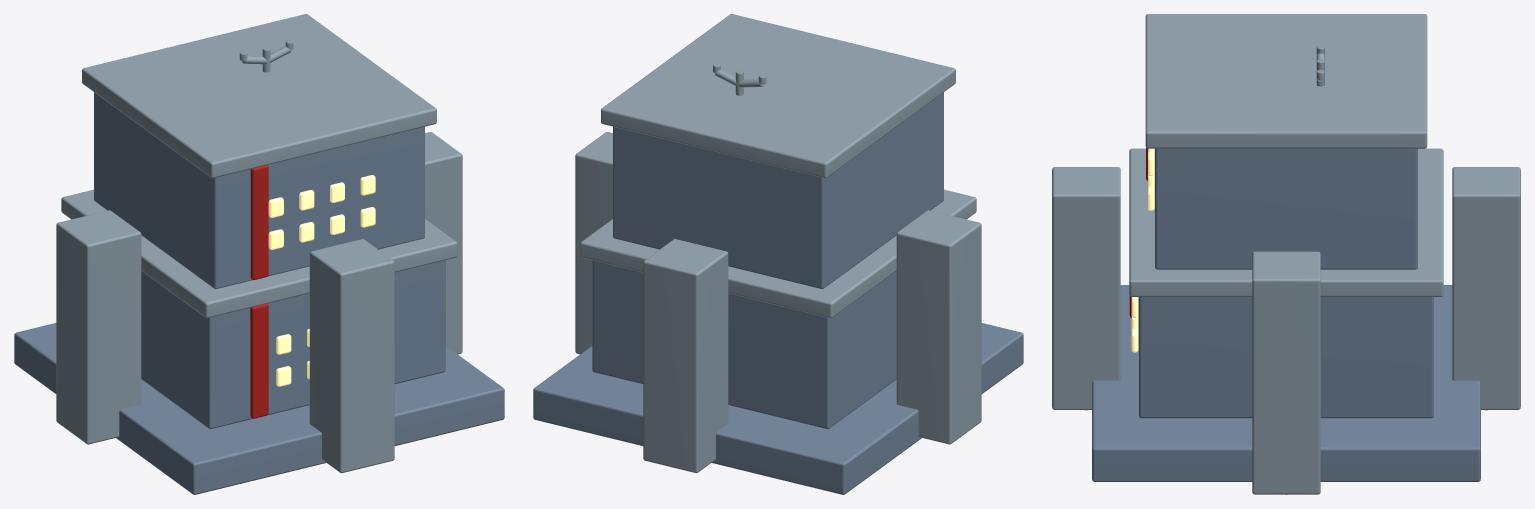
3 views of the same model, side by side, from view 1: azimuth 30°, elevation 25°; view 2: azimuth 150°, elevation 25°; view 3: azimuth 270°, elevation 25° (orthographic). The views are drawn at different scales.
Parts seen in each view (by area): view 1: Block roof ledge.001, Modular block storey.001, Modular block storey, Foundation slab, Block buttress.003, Block buttress.002, Block roof ledge, Block buttress, Vertical block colour strip, Vertical block colour strip.001; view 2: Modular block storey.001, Block roof ledge.001, Modular block storey, Foundation slab, Block buttress.001, Block buttress.002, Block roof ledge, Block buttress; view 3: Block roof ledge.001, Modular block storey.001, Modular block storey, Foundation slab, Block buttress, Block buttress.001, Block buttress.003, Block roof ledge.
Boxes of the visible parts, left/top/right/bottom form: Block roof ledge.001: left=82, top=14, right=436, bottom=178; Modular block storey.001: left=94, top=92, right=424, bottom=288; Modular block storey: left=141, top=260, right=445, bottom=429; Foundation slab: left=14, top=323, right=504, bottom=494; Block buttress.003: left=309, top=239, right=394, bottom=473; Block buttress.002: left=56, top=210, right=141, bottom=444; Block roof ledge: left=61, top=189, right=457, bottom=318; Block buttress: left=425, top=132, right=462, bottom=354; Vertical block colour strip: left=250, top=304, right=268, bottom=418; Vertical block colour strip.001: left=250, top=165, right=268, bottom=279; Modular block storey.001: left=613, top=92, right=943, bottom=288; Block roof ledge.001: left=601, top=14, right=955, bottom=178; Modular block storey: left=592, top=260, right=896, bottom=429; Foundation slab: left=533, top=323, right=1023, bottom=494; Block buttress.001: left=643, top=239, right=728, bottom=473; Block buttress.002: left=896, top=210, right=981, bottom=444; Block roof ledge: left=580, top=189, right=976, bottom=318; Block buttress: left=575, top=132, right=612, bottom=354; Block roof ledge.001: left=1145, top=14, right=1427, bottom=148; Modular block storey.001: left=1155, top=148, right=1417, bottom=269; Modular block storey: left=1139, top=297, right=1433, bottom=418; Foundation slab: left=1092, top=285, right=1480, bottom=481; Block buttress: left=1252, top=251, right=1320, bottom=494; Block buttress.001: left=1452, top=167, right=1520, bottom=409; Block buttress.003: left=1052, top=167, right=1120, bottom=409; Block roof ledge: left=1129, top=148, right=1443, bottom=296.
Bounding box in the file's own units: 2.46 × 2.05 × 2.46.
